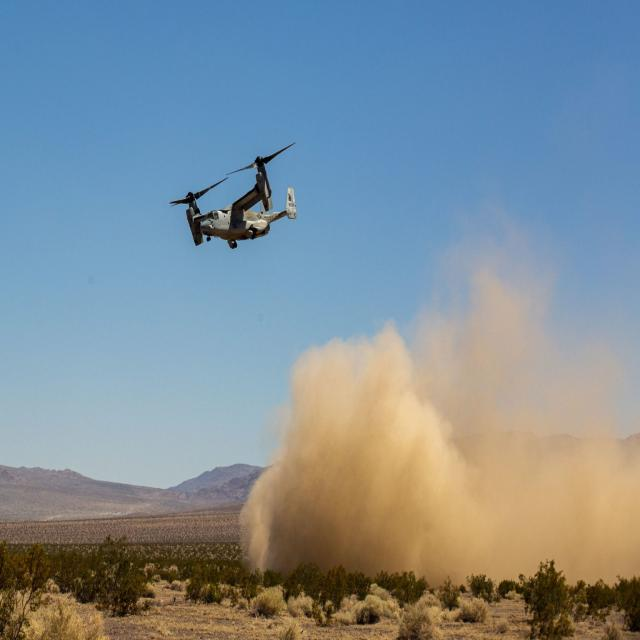MIL_Plane: (167, 142, 296, 250)
